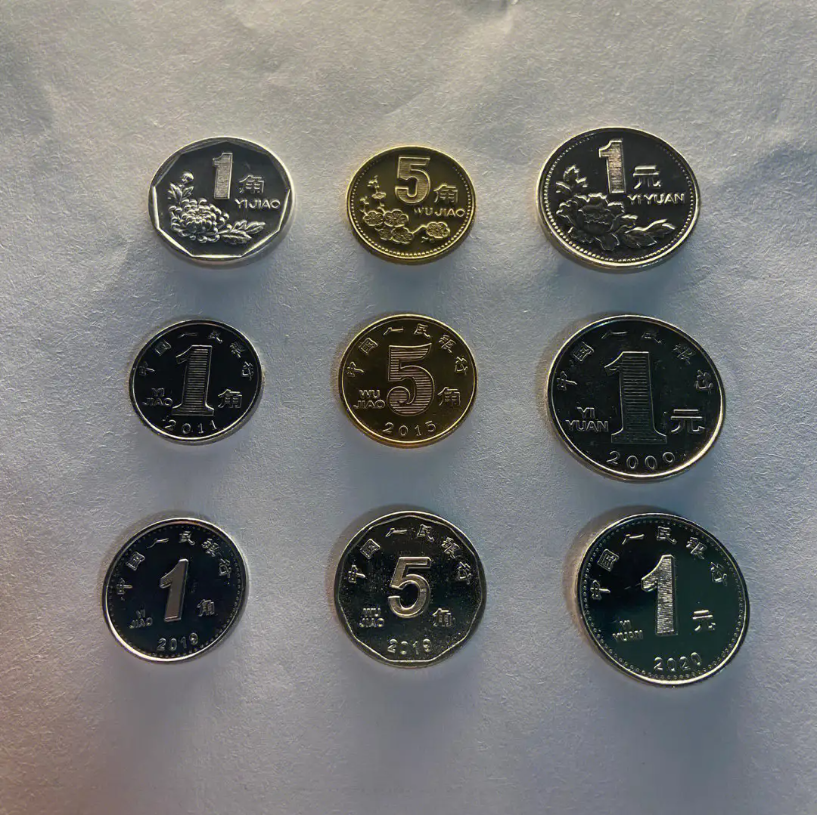coin: (545, 312, 727, 484), (573, 511, 749, 684), (333, 509, 487, 667), (537, 125, 700, 272), (102, 515, 249, 665), (146, 134, 295, 267), (336, 312, 479, 450), (125, 316, 265, 446), (342, 144, 477, 265)
